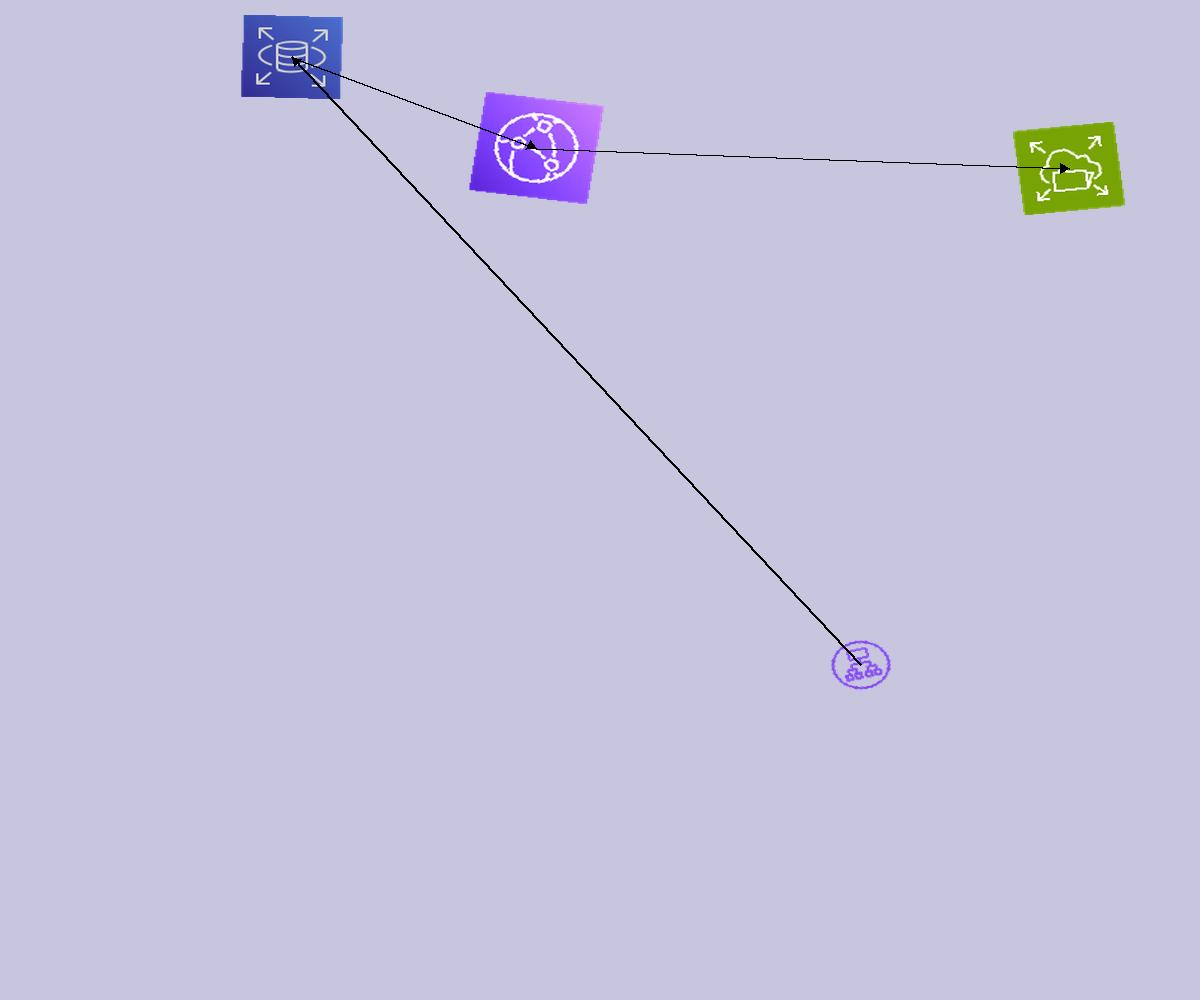AWS-CloudFront: (468, 91, 605, 205)
AWS-EFS: (1012, 121, 1126, 216)
AWS-RDS: (240, 14, 344, 100)
AWS-Res_Elastic-Load-Balancing_Application-Load-Balancer: (821, 632, 901, 698)
